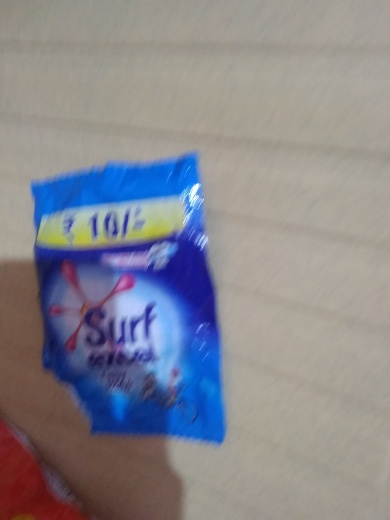surf: (20, 168, 232, 440)
